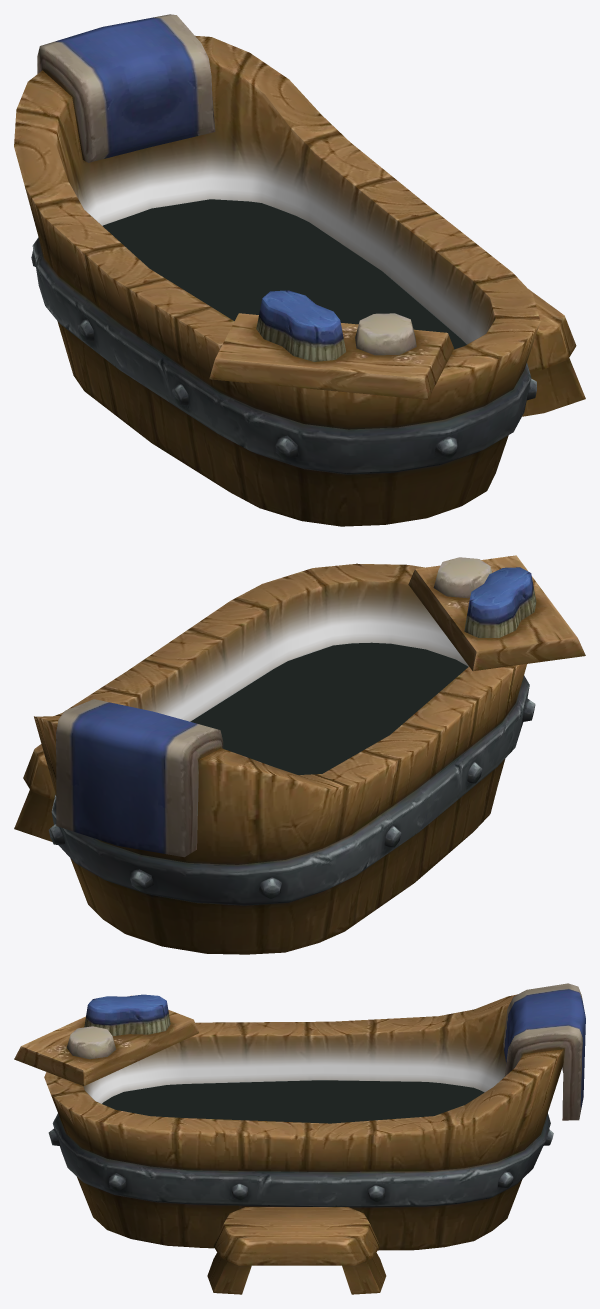
3 views of the same model, one above another, from view 1: azimuth 30°, elevation 25°; view 2: azimuth 150°, elevation 25°; view 3: azimuth 270°, elevation 25° (orthographic). The views are drawn at different scales.
Bounding box in the file's own units: 2 × 1.12 × 2.96.
Materials: 4 (4 with a texture image).
